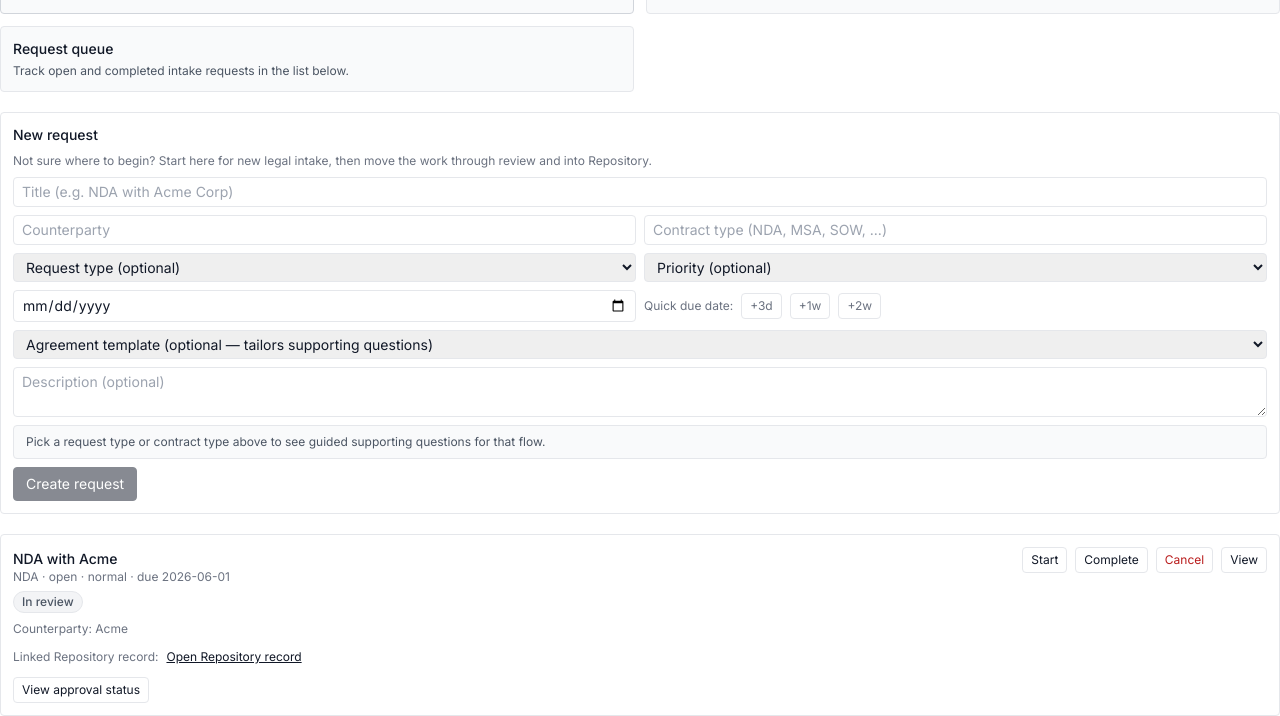
Test: RequestsPage › renders a ready-for-signature badge when the gate allows
The width and height of the screenshot is (1280, 716).
(page scrolled)
Expected: the link "NDA with Acme" is shown, [13,550,118,567]
Click the button with test id "request-approval-toggle" at [81, 690], box [13,677,149,703]
(page scrolled)
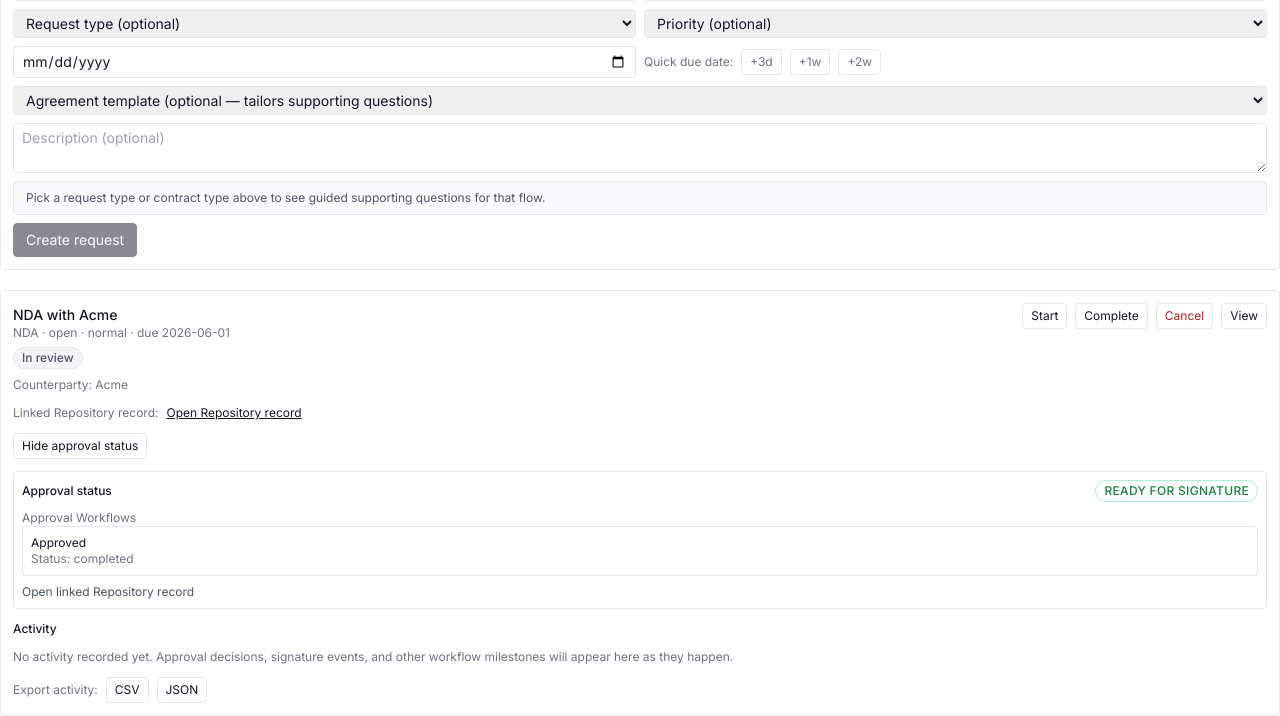
Result: the text "Ready for signature" is shown at [1096,480,1258,502]
